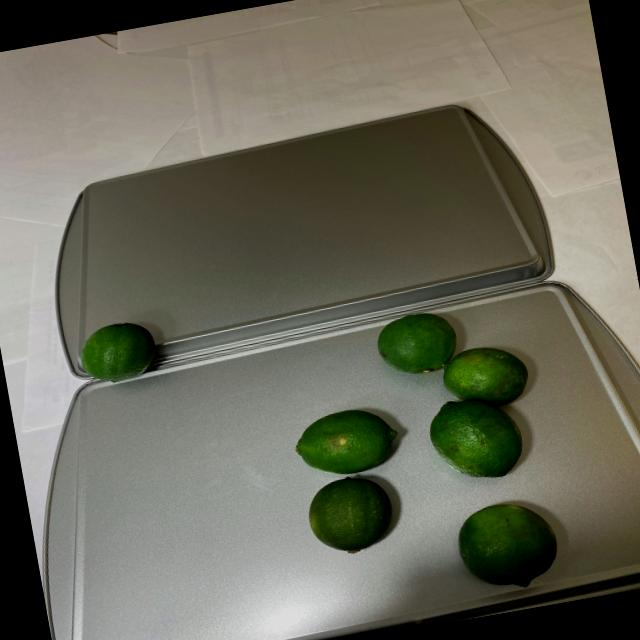lemon: (270, 294, 580, 624), (75, 318, 160, 386)
